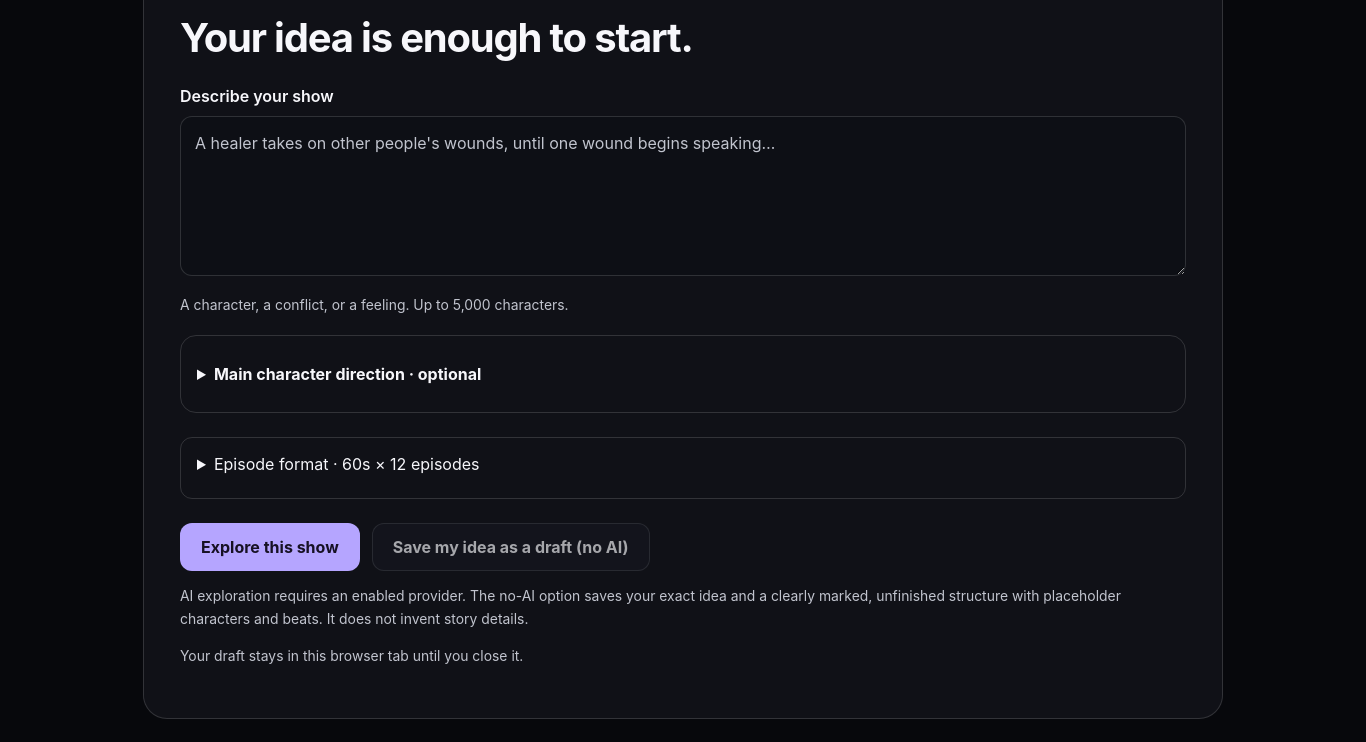
guided creation › rejects a direction response that loses selected character tags
(page scrolled)
Click the heading "Main character direction · optional".
click(348, 374)  # box 214,364 -> 481,384
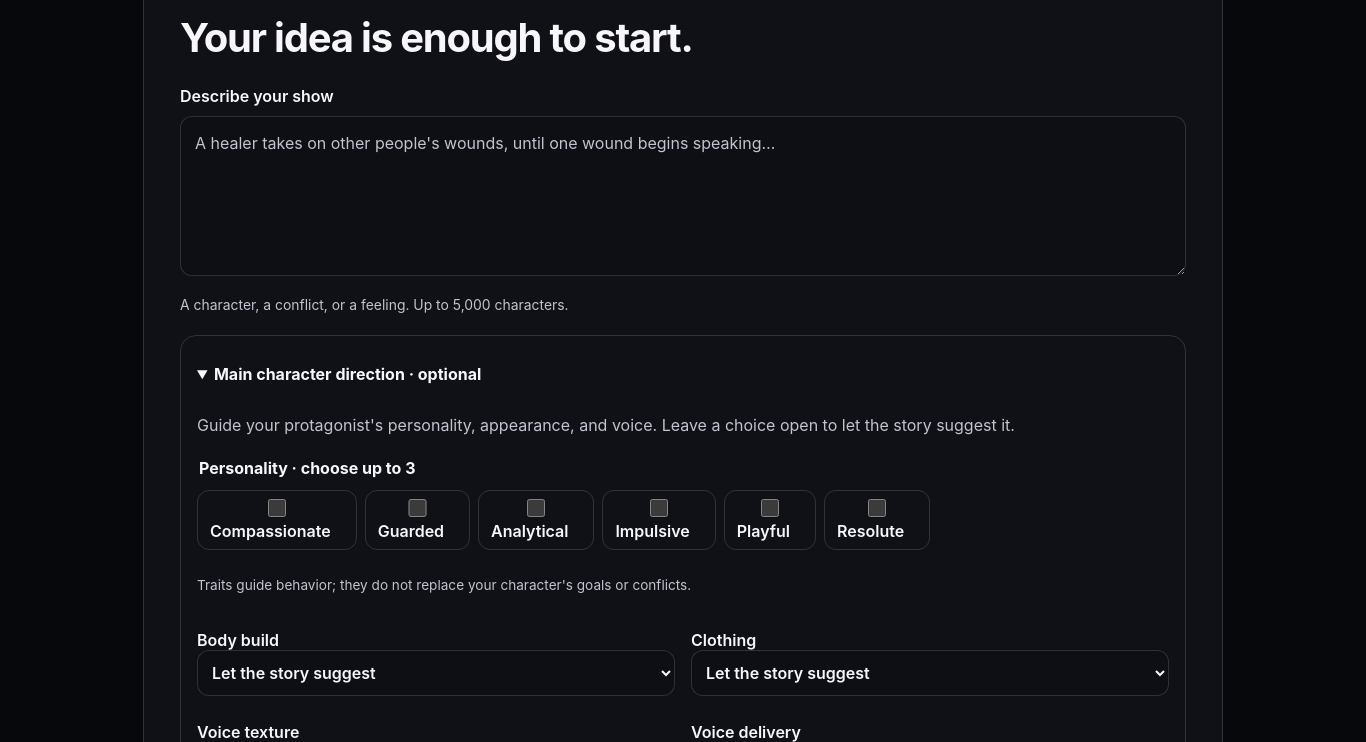
Select "Athletic" in the dropdown labelled "Body build" at (436, 673), box 197,650 -> 675,696
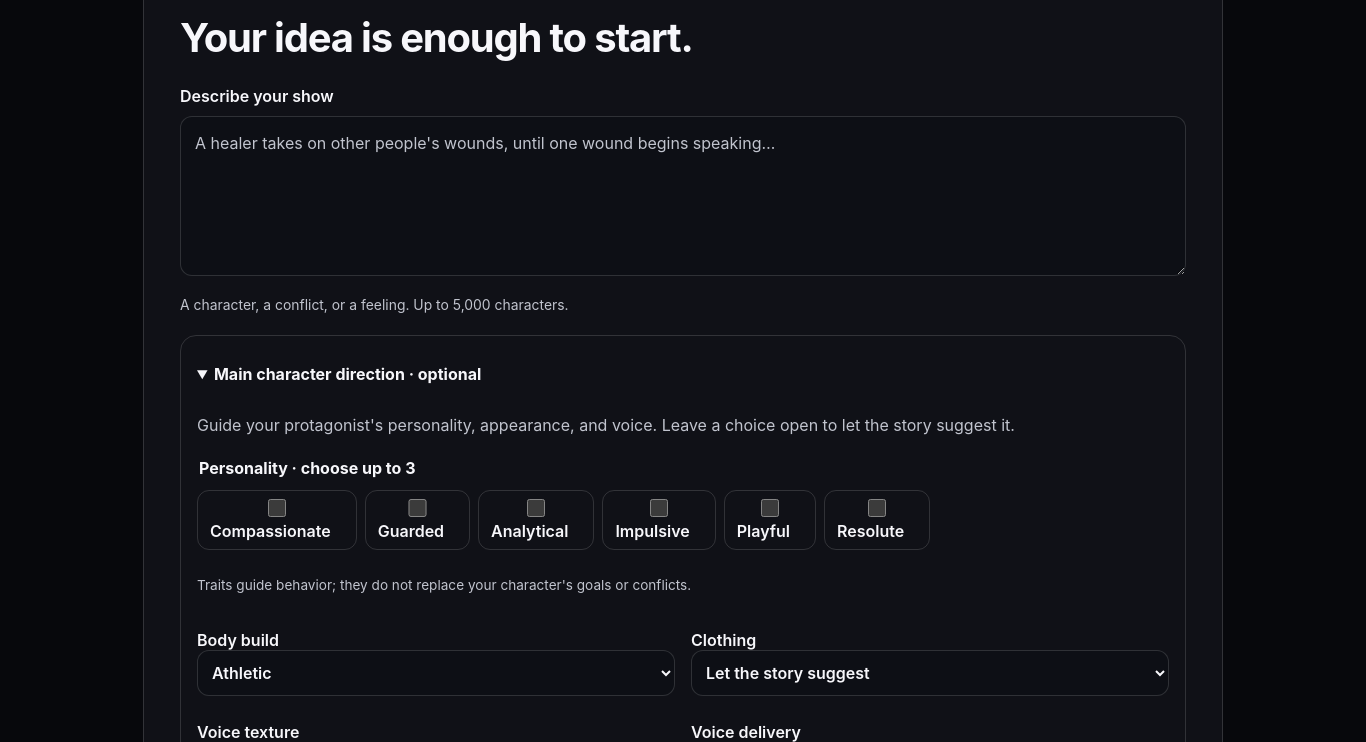
Replace the text in the text box labelled "Describe your show" with "A healer carries the wounds of others." at (683, 196), box 180,116 -> 1186,276
(page scrolled)
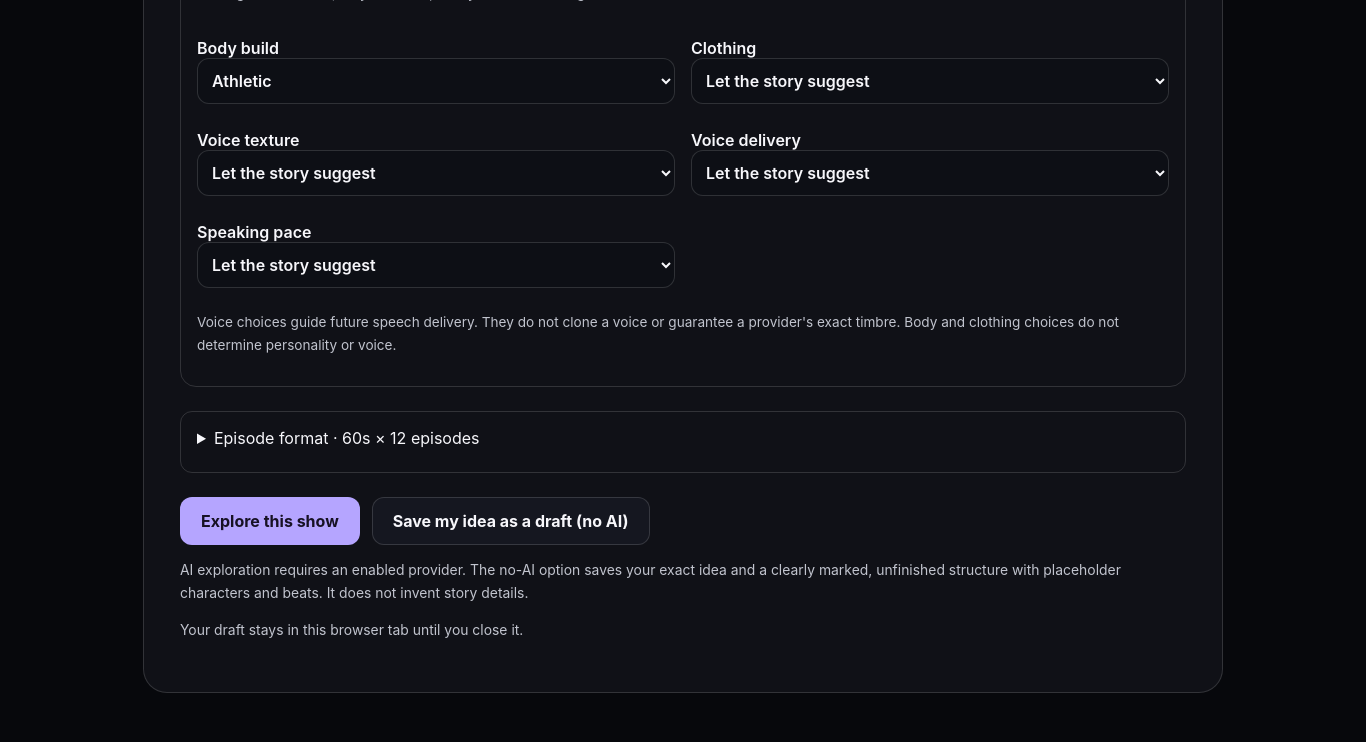
Click the button "Explore this show".
click(270, 521)  # box 180,497 -> 360,545
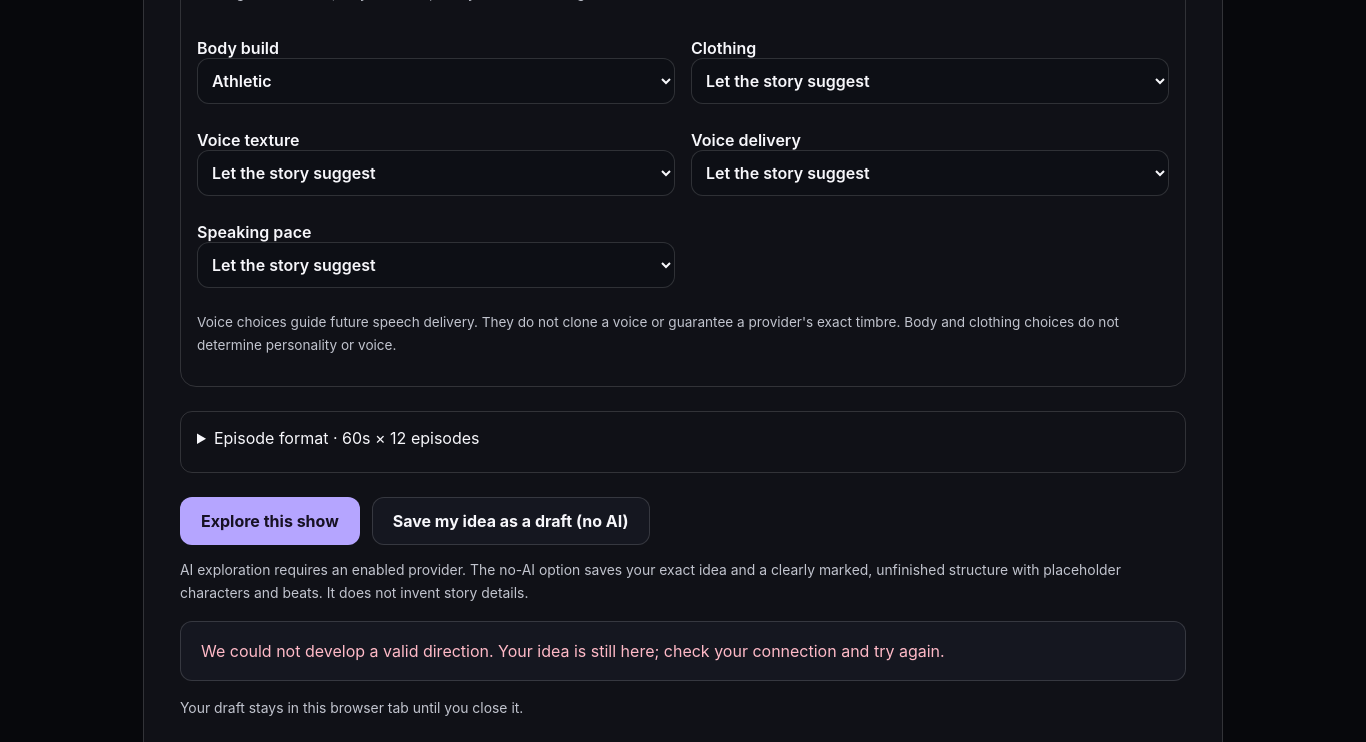
Expected: the 1st message is shown, 180,621 -> 1186,681
